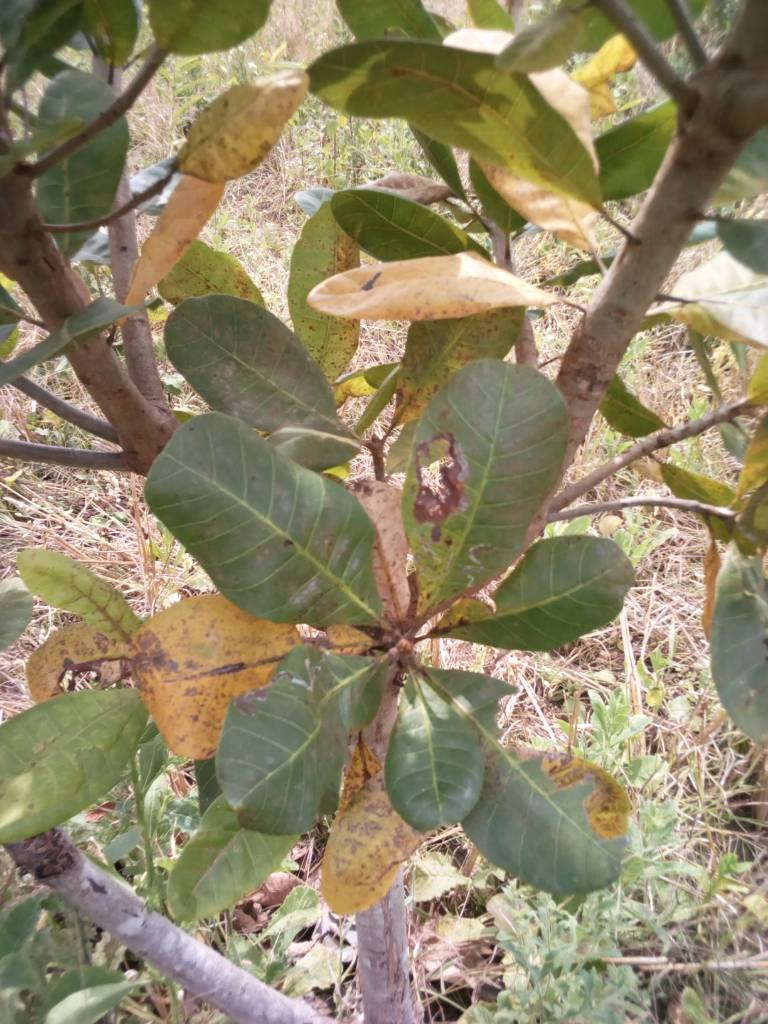Bactériose: (407, 361, 566, 611), (29, 592, 249, 758)
